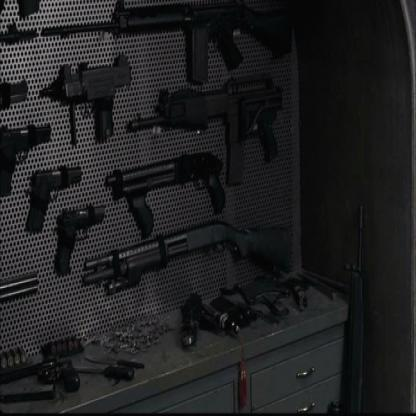Gun: (1, 0, 366, 415)
